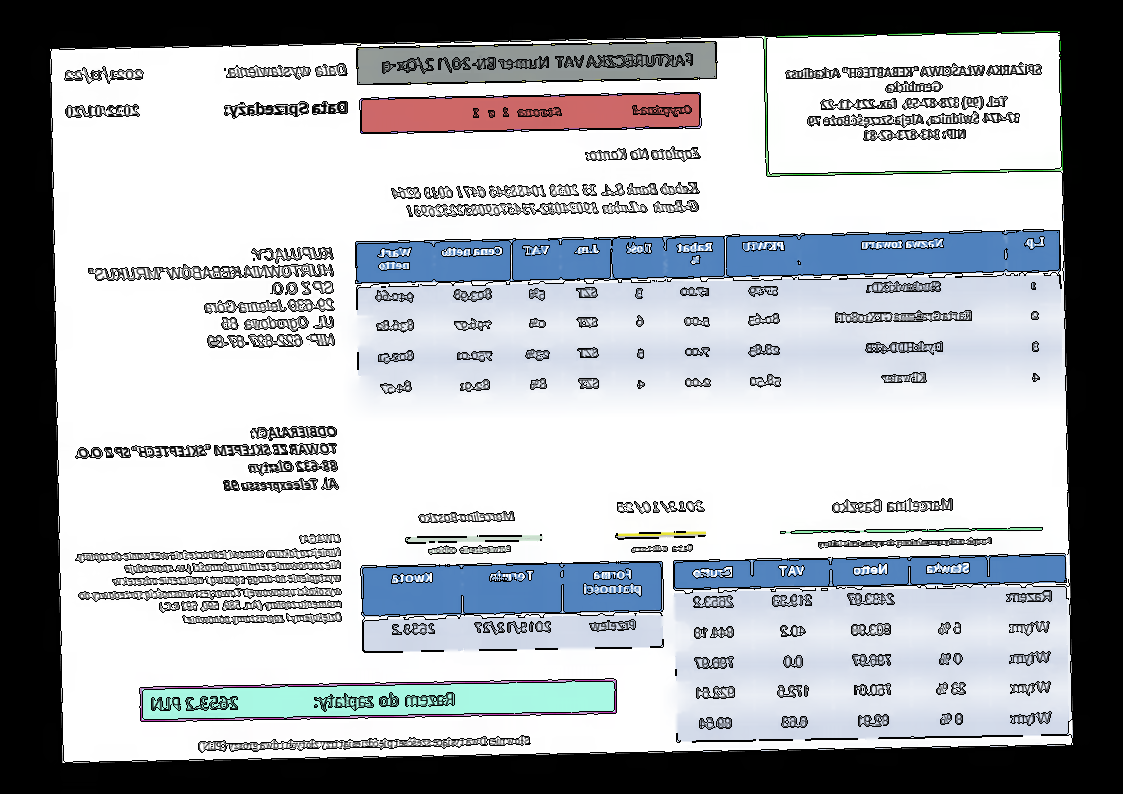Table: (353, 226, 1064, 407), (672, 554, 1071, 743), (361, 560, 665, 653)
TextBox: (86, 243, 339, 353), (75, 531, 344, 630), (785, 58, 1046, 145), (73, 422, 341, 497), (390, 178, 701, 220), (380, 50, 698, 77), (151, 688, 457, 715), (196, 731, 533, 754), (469, 100, 695, 123), (220, 97, 350, 121), (816, 535, 995, 551), (223, 60, 350, 82), (581, 143, 703, 164), (832, 496, 955, 515), (62, 64, 148, 85), (417, 509, 516, 526), (613, 498, 707, 515), (62, 102, 143, 120), (427, 543, 512, 556), (630, 541, 694, 554)
